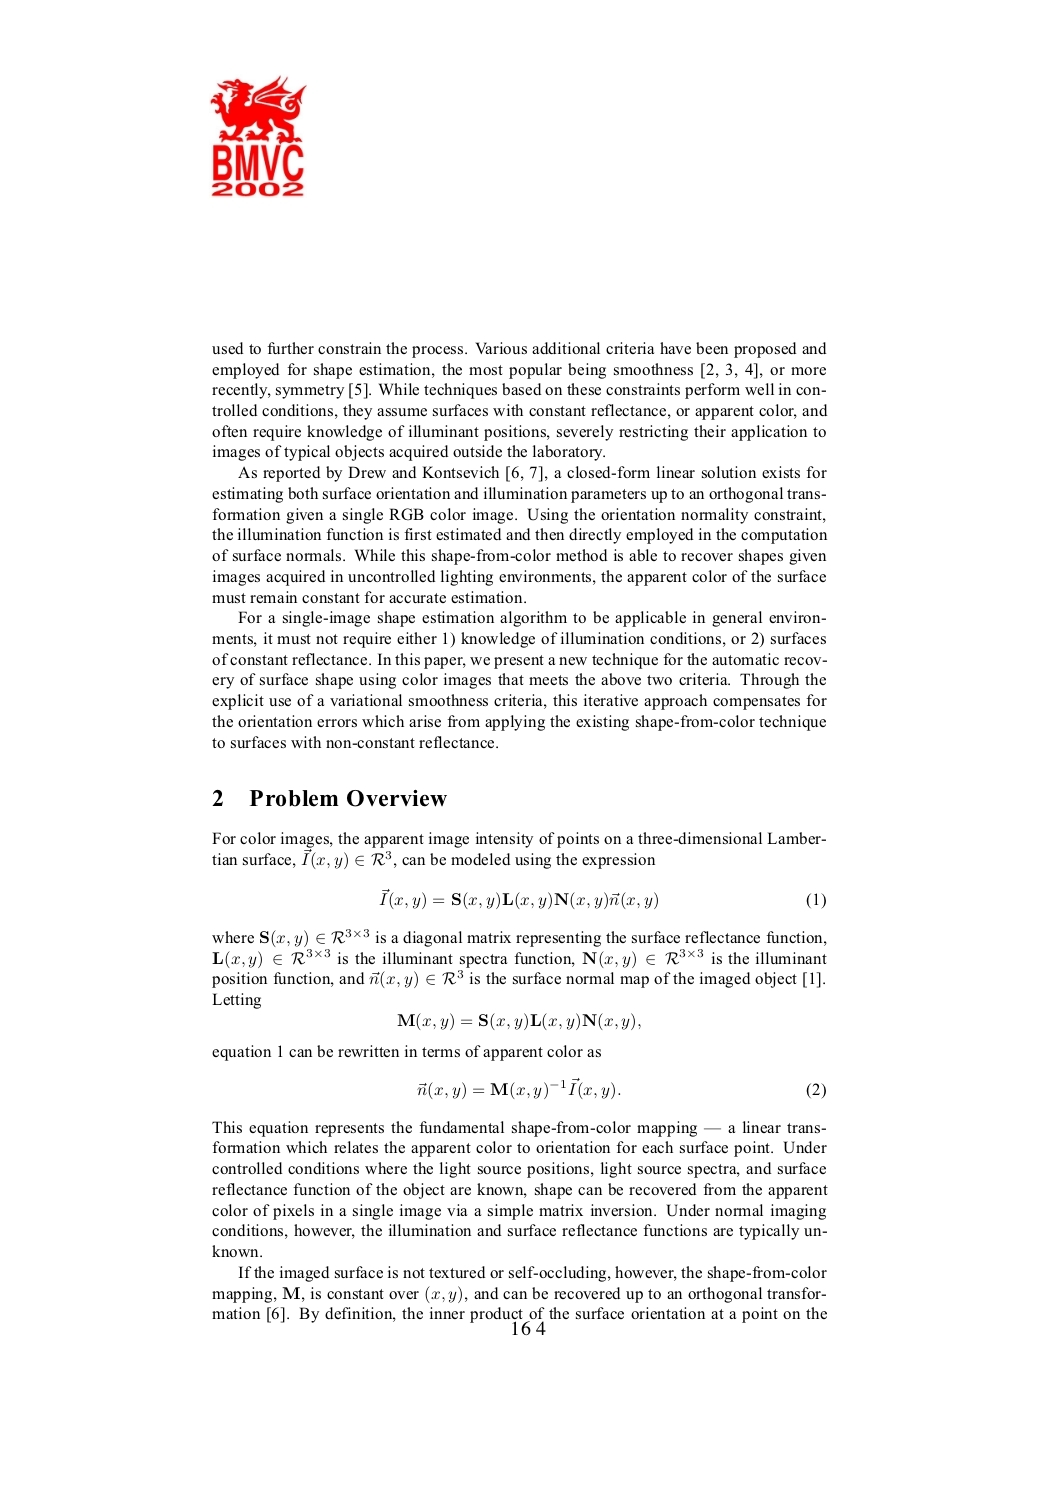figure: (210, 73, 305, 197)
formula: (379, 887, 824, 910), (417, 1077, 824, 1100), (397, 1013, 640, 1031)
